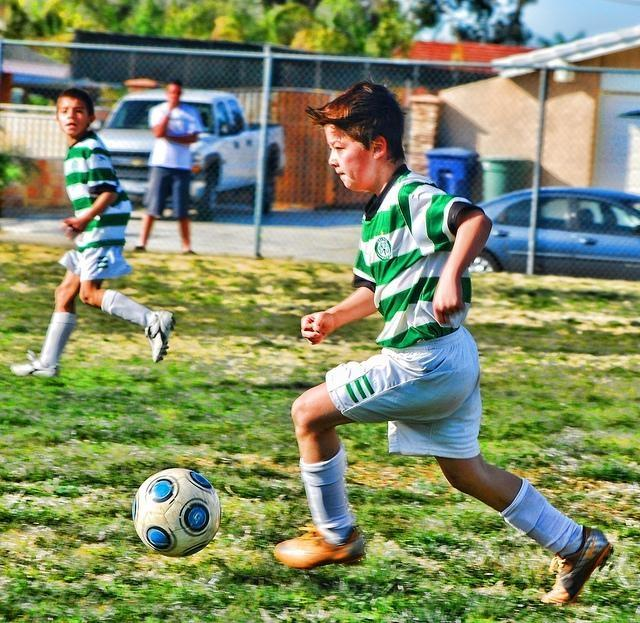car: (466, 184, 640, 282)
truck: (101, 88, 256, 216)
